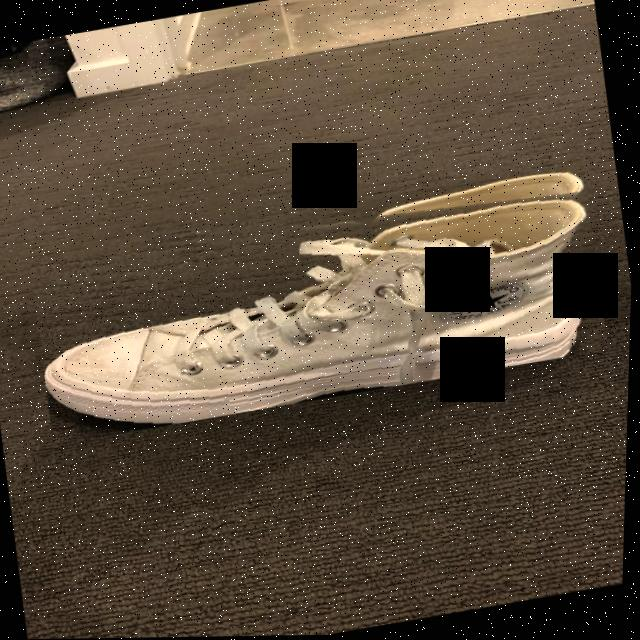shoe: (27, 164, 615, 446)
